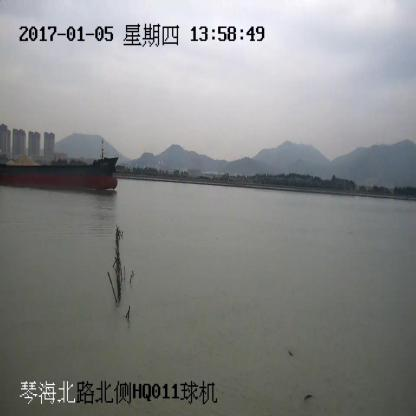Bulk Carrier: (0, 141, 120, 190)
